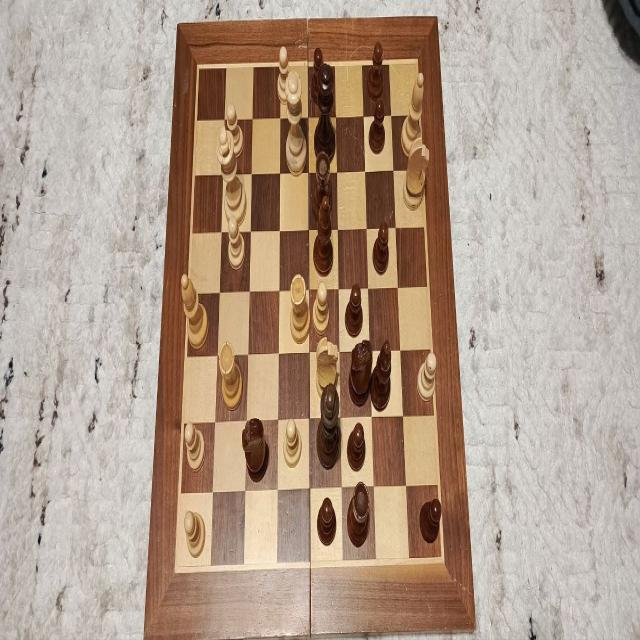black_bishop: (370, 338, 392, 410), (313, 197, 333, 275)
black_king: (317, 384, 341, 468)
black_knight: (242, 416, 267, 482), (349, 339, 372, 406)
black_pawn: (419, 496, 443, 544), (312, 46, 328, 108), (347, 420, 366, 470), (345, 282, 363, 334), (368, 41, 384, 99), (317, 495, 336, 543), (370, 99, 386, 154), (373, 221, 389, 274)
black_queen: (314, 64, 336, 163)
black_rook: (347, 482, 371, 546), (312, 156, 331, 222)
white_bishop: (400, 71, 424, 158), (182, 274, 208, 349)
white_king: (217, 124, 246, 223)
white_knight: (404, 137, 429, 210)
white_pawn: (183, 420, 205, 472), (312, 276, 330, 334), (417, 351, 437, 402), (226, 102, 244, 158), (183, 508, 204, 556), (227, 213, 245, 268), (283, 418, 302, 466), (276, 44, 290, 105)
white_queen: (285, 70, 307, 176)
white_rook: (219, 340, 243, 407), (290, 274, 310, 341)
